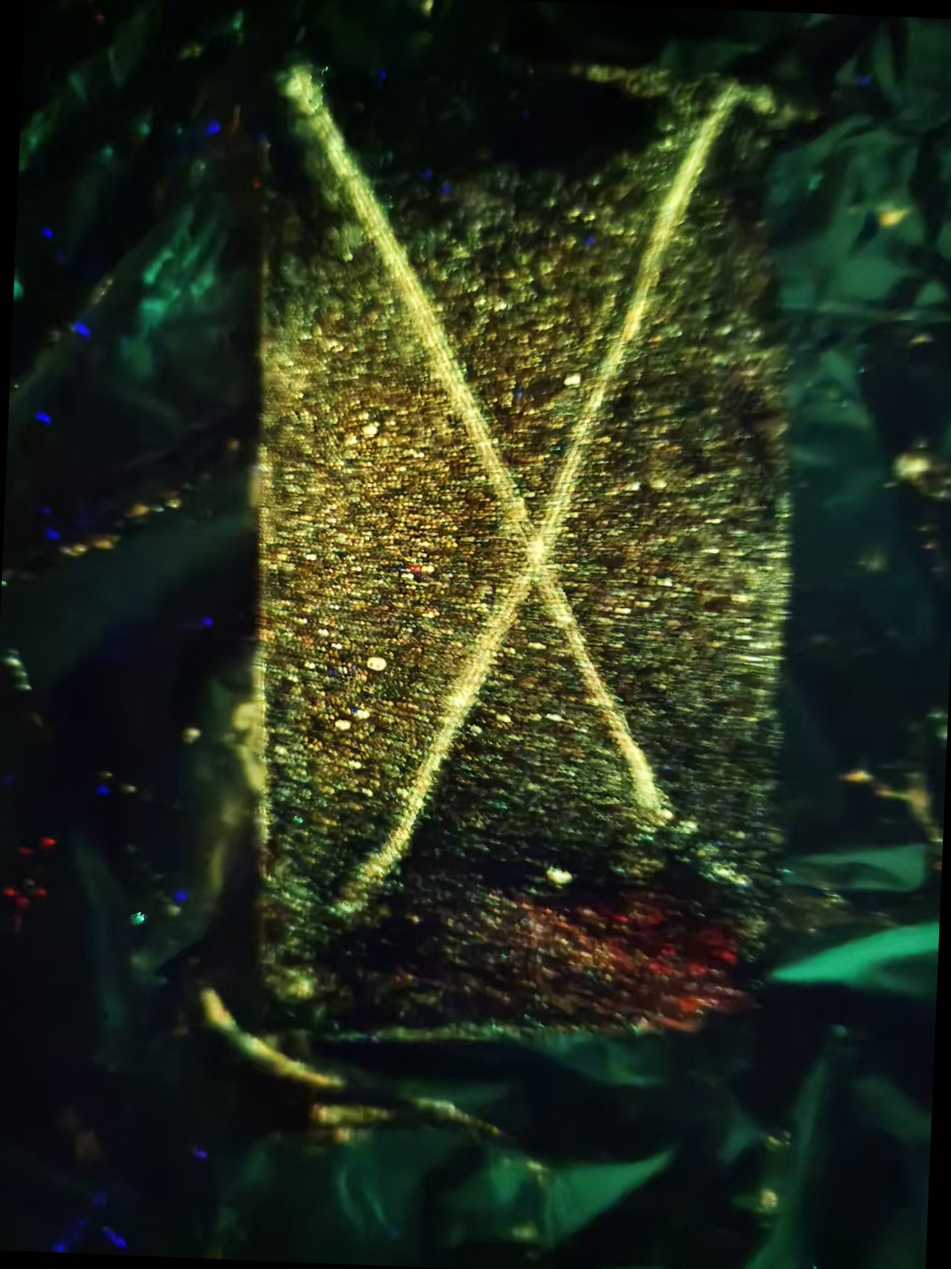Crater: (326, 57, 770, 954), (233, 45, 722, 843)
